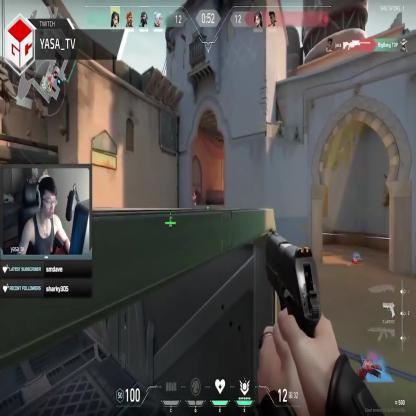enemy: (190, 191, 198, 219)
enemy_head: (192, 192, 196, 196)
